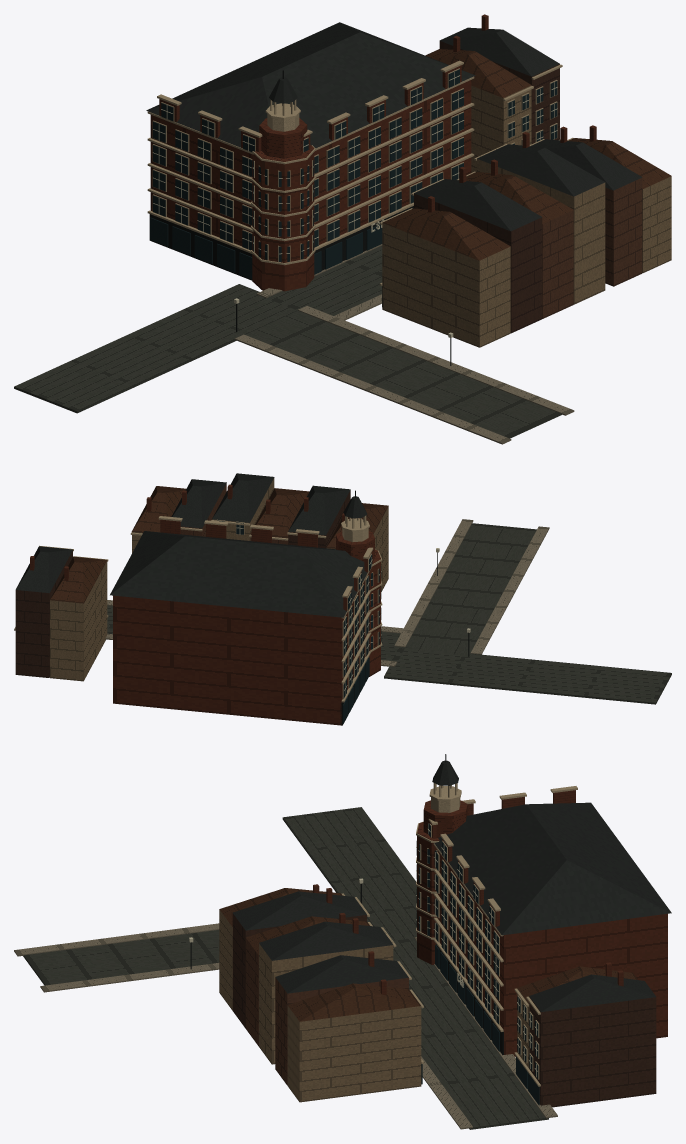
3 views of the same model, one above another, from view 1: azimuth 30°, elevation 25°; view 2: azimuth 150°, elevation 25°; view 3: azimuth 270°, elevation 25° (orthographic). The views are drawn at different scales.
Visible parts, largest first — view 1: hoogstraat-0, hoogstraat-3, hoogstraat-2, hoogstraat-8, hoogstraat-5, hoogstraat-6, hoogstraat-9, hoogstraat-11, hoogstraat-10, hoogstraat-1, hoogstraat-7, hoogstraat-4; view 2: hoogstraat-2, hoogstraat-3, hoogstraat-0, hoogstraat-8, hoogstraat-9, hoogstraat-10, hoogstraat-6, hoogstraat-1, hoogstraat-5, hoogstraat-7, hoogstraat-11; view 3: hoogstraat-3, hoogstraat-0, hoogstraat-2, hoogstraat-8, hoogstraat-10, hoogstraat-6, hoogstraat-5, hoogstraat-9, hoogstraat-1, hoogstraat-11, hoogstraat-7, hoogstraat-4.
Part boxes in pixels (x1,y1,x2,y2): hoogstraat-0: (14, 245, 561, 438); hoogstraat-3: (146, 22, 642, 231); hoogstraat-2: (150, 14, 596, 291); hoogstraat-8: (382, 85, 671, 347); hoogstraat-5: (150, 69, 557, 306); hoogstraat-6: (147, 60, 573, 285); hoogstraat-9: (382, 49, 671, 260); hoogstraat-11: (542, 178, 642, 318); hoogstraat-10: (414, 41, 559, 333); hoogstraat-1: (235, 244, 574, 444); hoogstraat-7: (152, 72, 557, 337); hoogstraat-4: (149, 70, 451, 365); hoogstraat-2: (30, 484, 380, 725); hoogstraat-3: (15, 473, 367, 617); hoogstraat-0: (107, 523, 671, 704); hoogstraat-8: (50, 478, 388, 681); hoogstraat-9: (50, 486, 388, 603); hoogstraat-10: (15, 490, 350, 677); hoogstraat-6: (39, 515, 382, 702); hoogstraat-1: (14, 519, 549, 666); hoogstraat-5: (217, 520, 381, 723); hoogstraat-7: (236, 525, 470, 695); hoogstraat-11: (180, 484, 288, 544); hoogstraat-3: (233, 760, 671, 1011); hoogstraat-0: (23, 807, 548, 1129); hoogstraat-2: (313, 790, 667, 1056); hoogstraat-8: (219, 909, 529, 1102); hoogstraat-10: (232, 913, 656, 1107); hoogstraat-6: (341, 783, 577, 1086); hoogstraat-5: (385, 823, 539, 1105); hoogstraat-9: (219, 888, 637, 1021); hoogstraat-1: (14, 923, 557, 1129); hoogstraat-11: (245, 938, 408, 1085); hoogstraat-7: (189, 823, 537, 1077); hoogstraat-4: (190, 754, 503, 1054).
Size of the model in its own units: 120 by 35 by 103.
Materials: 12 (12 with a texture image).
